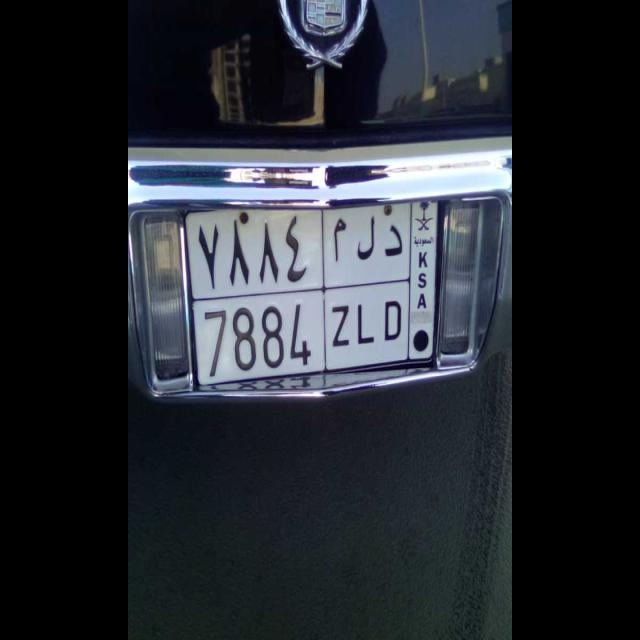license_plate: (192, 288, 412, 392)
